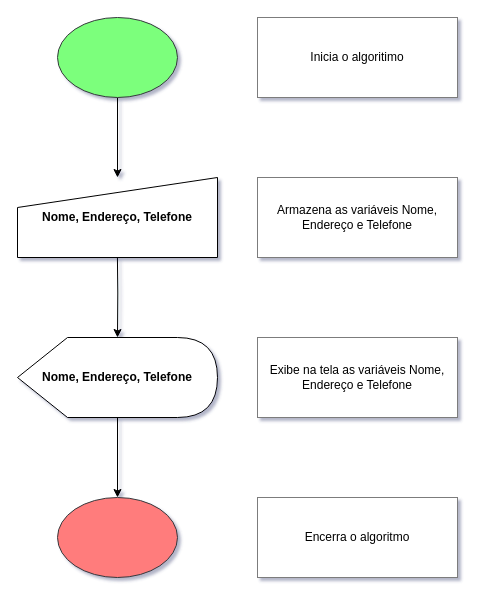
This 481x601 diagram has some shape labels left out. The shapes that lost their labels are listed below. From the top down, each one's centre as x and y in pixels, then its label:
At (x=117, y=57): "Entrada".
At (x=117, y=537): "Saída".
